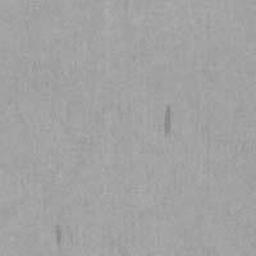Oil spot: (161, 109, 174, 137)
